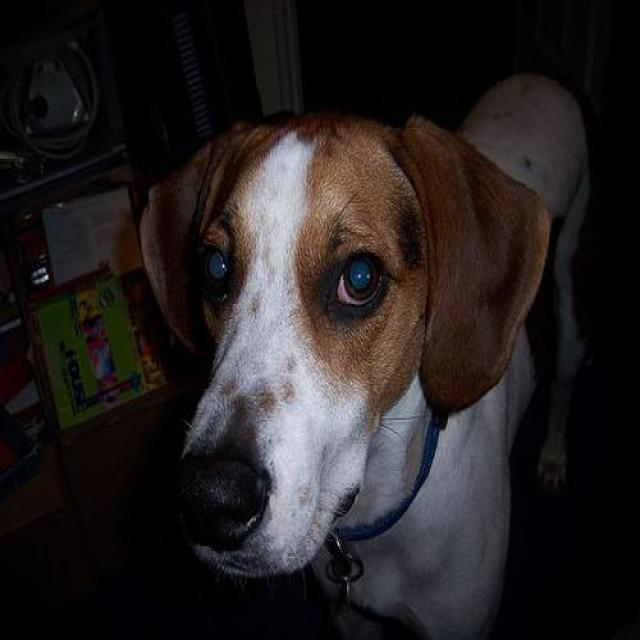beagle: (138, 75, 588, 638)
